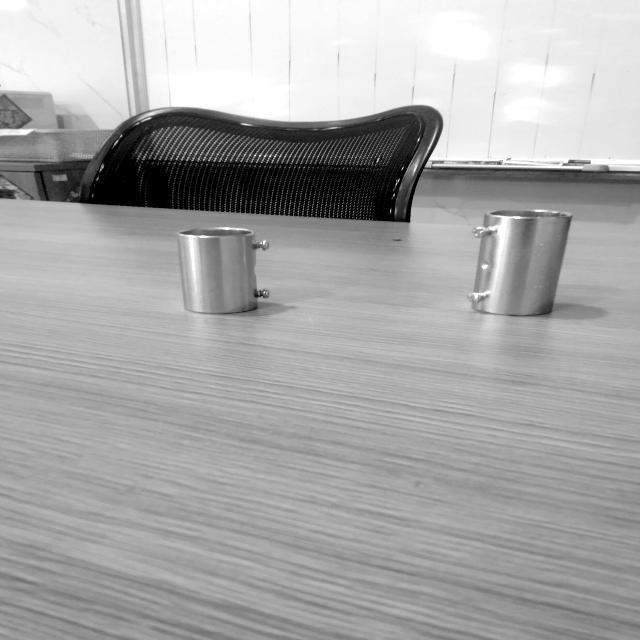Co_Lon: (463, 200, 572, 323)
Co_Nho: (179, 222, 277, 316)
